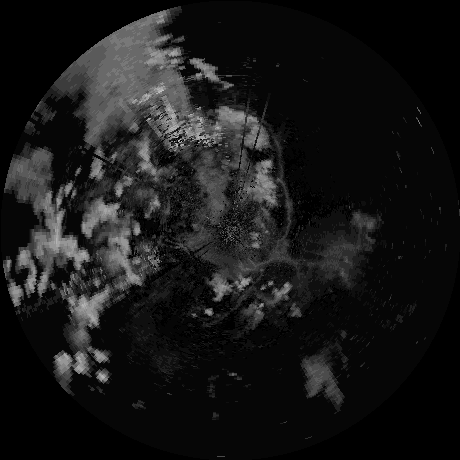frontgust: (205, 291, 249, 323), (277, 179, 293, 244), (273, 129, 284, 179), (243, 255, 274, 271)
